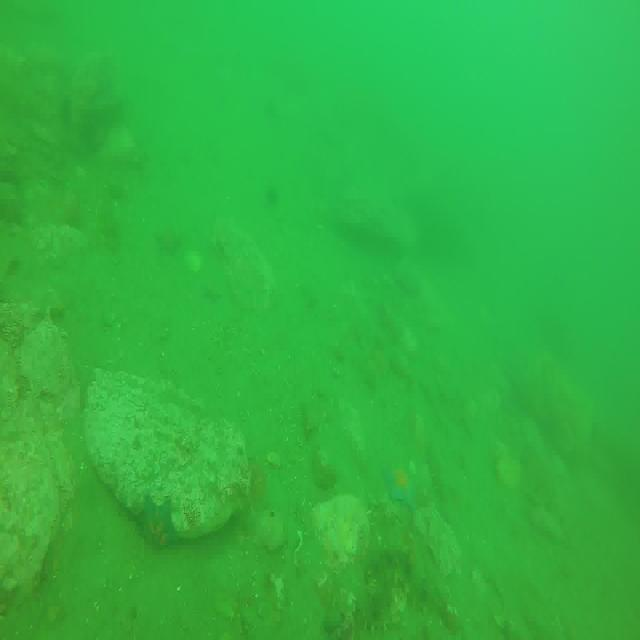echinus: (262, 182, 284, 217)
holothurian: (357, 573, 399, 638)
starfish: (385, 457, 420, 512), (154, 222, 184, 256)
